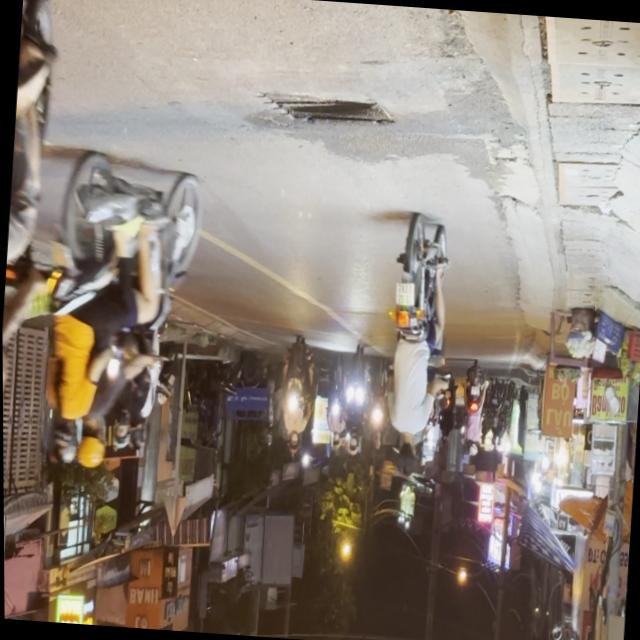helmet: (73, 418, 104, 471), (45, 416, 76, 466)
licenseplate: (28, 146, 207, 480), (0, 0, 67, 533), (374, 213, 454, 482)
motorcyclist: (389, 434, 414, 478)
nohelmet: (392, 280, 414, 306)
